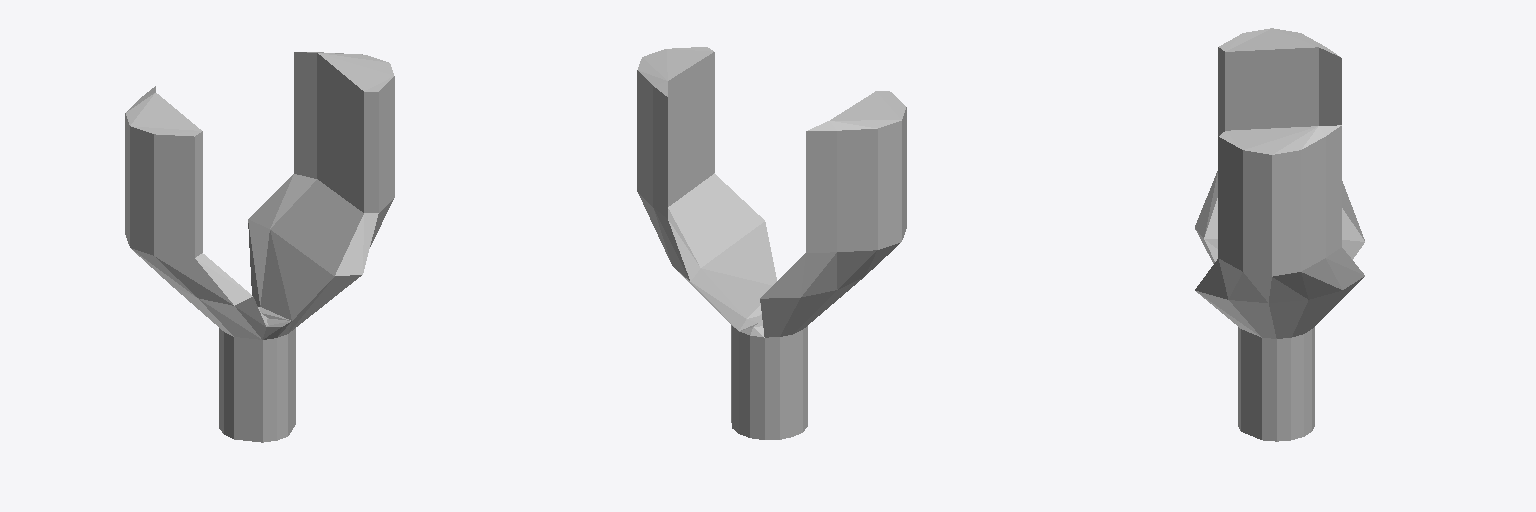
Rendered from basetop3.obj.
3 views of the same model, side by side, from view 1: azimuth 30°, elevation 25°; view 2: azimuth 150°, elevation 25°; view 3: azimuth 270°, elevation 25° (orthographic).
Parts seen in each view (by area): view 1: Cylinder.007_Cylinder.016; view 2: Cylinder.007_Cylinder.016; view 3: Cylinder.007_Cylinder.016.
Part boxes in pixels (bbox=[...]): Cylinder.007_Cylinder.016: bbox=[125, 52, 394, 442]; Cylinder.007_Cylinder.016: bbox=[637, 47, 906, 439]; Cylinder.007_Cylinder.016: bbox=[1195, 28, 1364, 441].
Bounding box in the file's own units: 8.71 × 10.85 × 4.97.